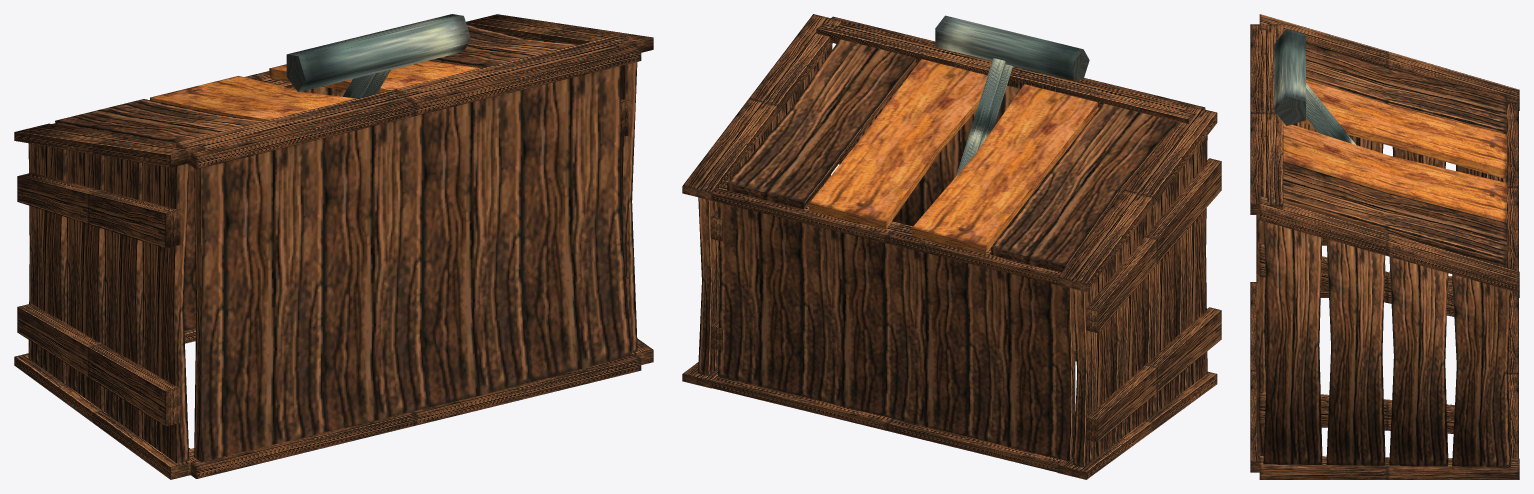
Rendered from CATA_SWITCH1_IDLE.fbx.
3 renders of one model, left to right at view 1: azimuth 30°, elevation 25°; view 2: azimuth 150°, elevation 25°; view 3: azimuth 270°, elevation 25°, orthographic. The views are drawn at different scales.
Parts seen in each view (by area): view 1: CATA_SWITCH1_IDLE; view 2: CATA_SWITCH1_IDLE; view 3: CATA_SWITCH1_IDLE.
Boxes of the visible parts, <box> form: CATA_SWITCH1_IDLE: <box>14,14,653,479</box>; CATA_SWITCH1_IDLE: <box>682,14,1221,479</box>; CATA_SWITCH1_IDLE: <box>1250,14,1519,479</box>.
Bounding box in the file's own units: 12625 × 9318 × 7259.
3 materials, 3 textured.
